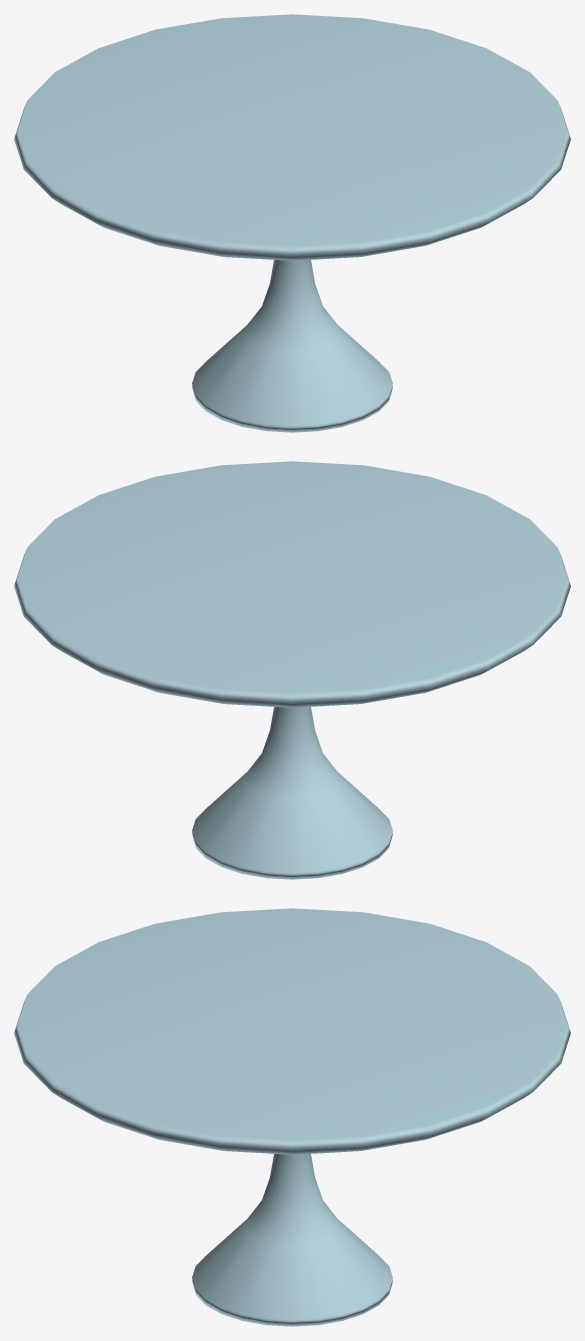
Rendered from Decorative_saucer_1.glb.
3 renders of one model, top to bottom at view 1: azimuth 30°, elevation 25°; view 2: azimuth 150°, elevation 25°; view 3: azimuth 270°, elevation 25°, orthographic.
Parts seen in each view (by area): view 1: Decorative_saucer_1; view 2: Decorative_saucer_1; view 3: Decorative_saucer_1.
Boxes of the visible parts, bbox=[...] form: Decorative_saucer_1: bbox=[14, 14, 570, 432]; Decorative_saucer_1: bbox=[14, 461, 570, 879]; Decorative_saucer_1: bbox=[14, 908, 570, 1326].
Bounding box in the file's own units: 0.4902 × 0.253 × 0.4909.
1 material, 1 textured.
